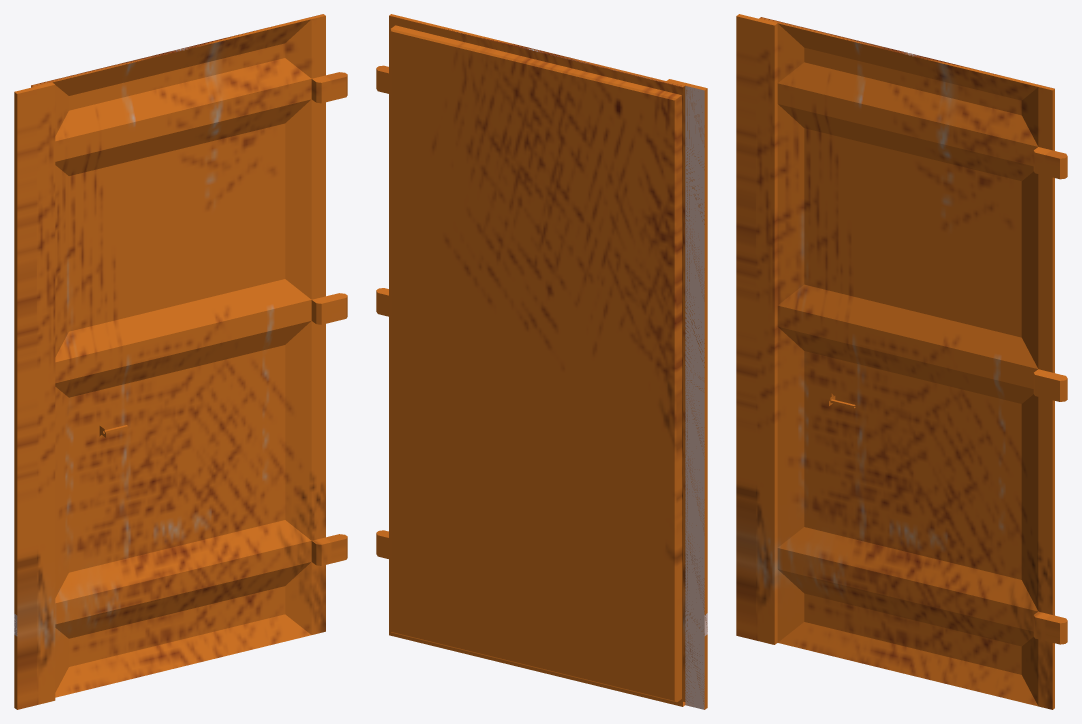
File: ContainerDoorLeft.fbx
3 views of the same model, side by side, from view 1: azimuth 30°, elevation 25°; view 2: azimuth 150°, elevation 25°; view 3: azimuth 330°, elevation 25° (orthographic).
Visible parts, largest first — view 1: Door-Handle; view 2: Door-Handle; view 3: Door-Handle.
Part boxes in pixels (x1,y1,x2,y2): Door-Handle: (14,14,347,709); Door-Handle: (376,14,707,709); Door-Handle: (736,14,1067,709).
Bounding box in the file's own units: 210 × 377 × 16.21.
Materials: 1 (1 with a texture image).
